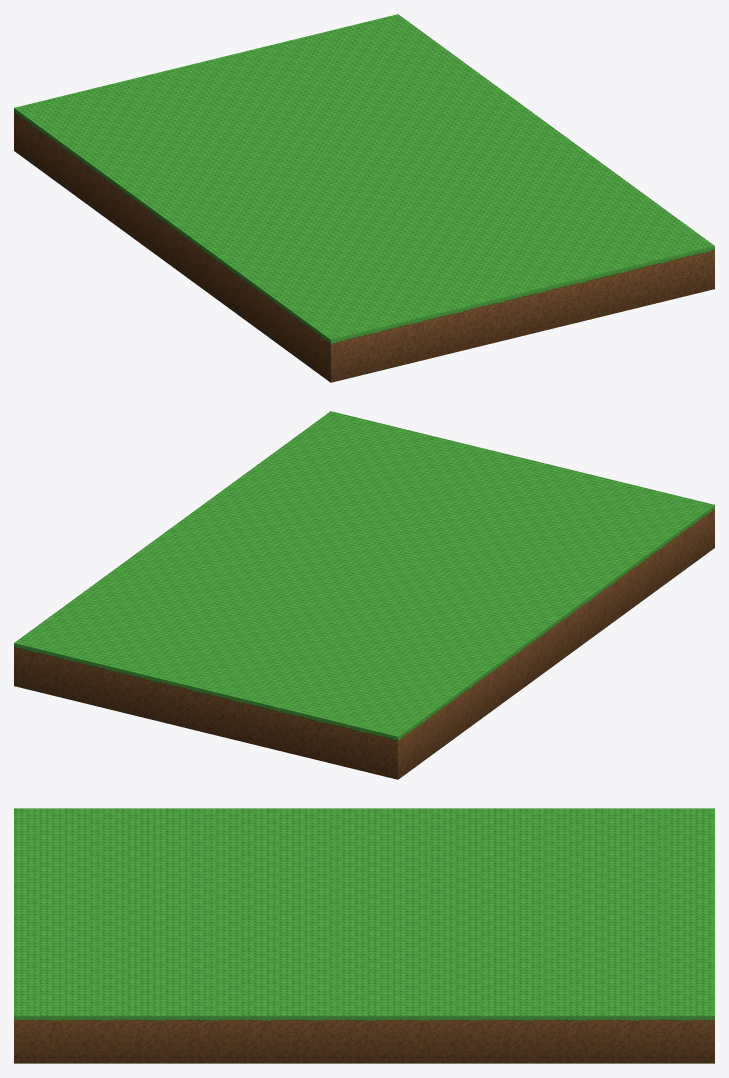
The model's file is baseplate.glb.
The picture shows the model from 3 angles, top to bottom: view 1: azimuth 30°, elevation 25°; view 2: azimuth 150°, elevation 25°; view 3: azimuth 270°, elevation 25°; orthographic projection. The views are drawn at different scales.
Parts seen in each view (by area): view 1: Top, Sides; view 2: Top, Sides; view 3: Top, Sides.
Part boxes in pixels (box(x1,y1,x2,y2)): Top: box(14, 14, 714, 339); Sides: box(14, 108, 714, 382); Top: box(14, 411, 714, 736); Sides: box(14, 505, 714, 779); Top: box(14, 808, 714, 1015); Sides: box(14, 1016, 714, 1063).
Size of the model in its own units: 28 by 3 by 40.
2 materials, 2 textured.
